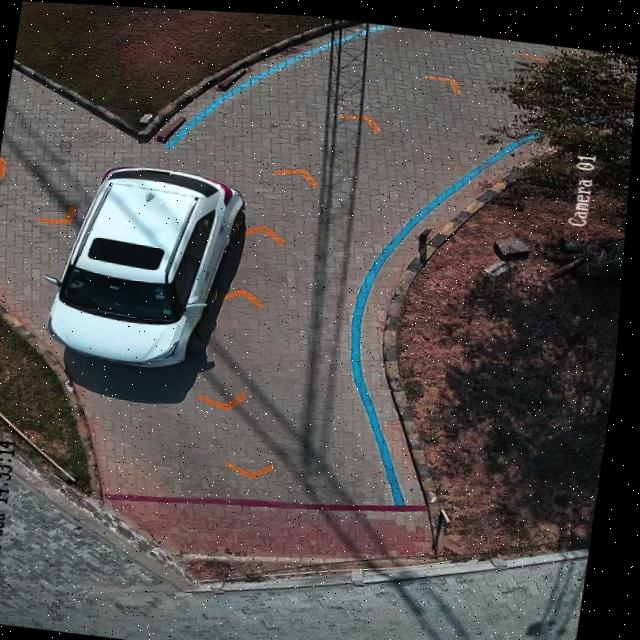car: (54, 164, 245, 364)
